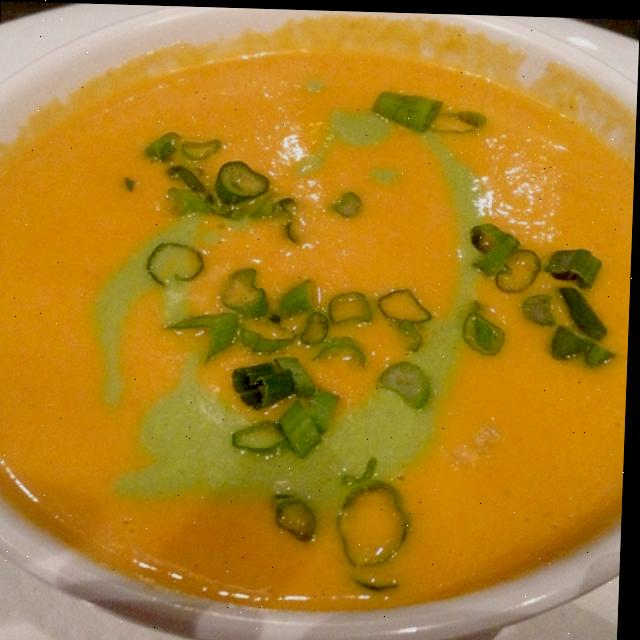汤锅炖物: (0, 29, 605, 593)
